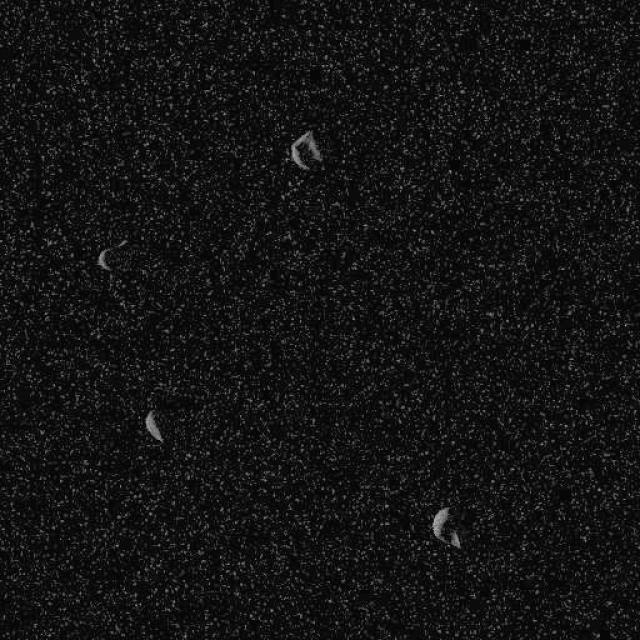D2: (288, 129, 324, 171), (430, 505, 462, 549), (95, 238, 127, 272), (144, 408, 164, 442)
